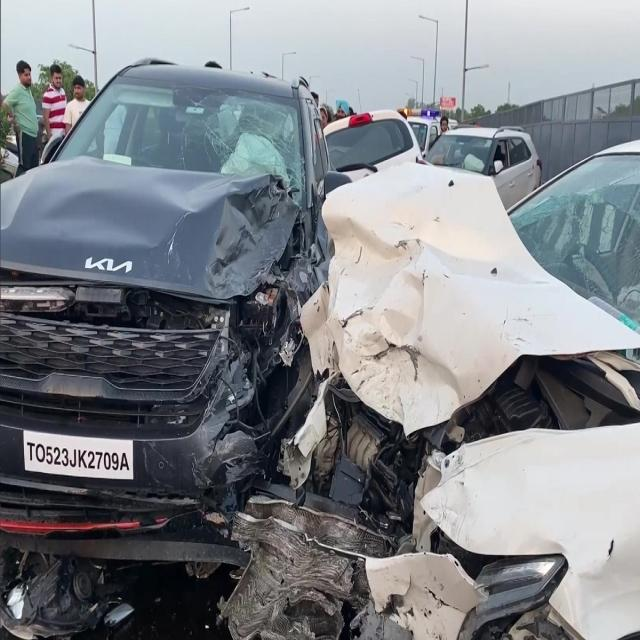accident: (225, 142, 640, 638), (0, 58, 340, 638)
car: (426, 127, 541, 208)
